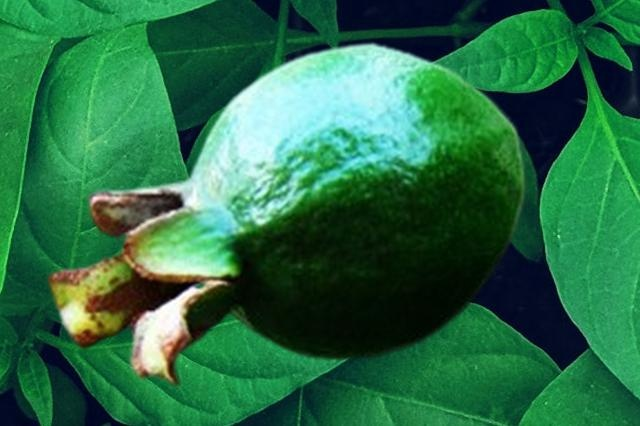guava: (46, 40, 526, 387)
